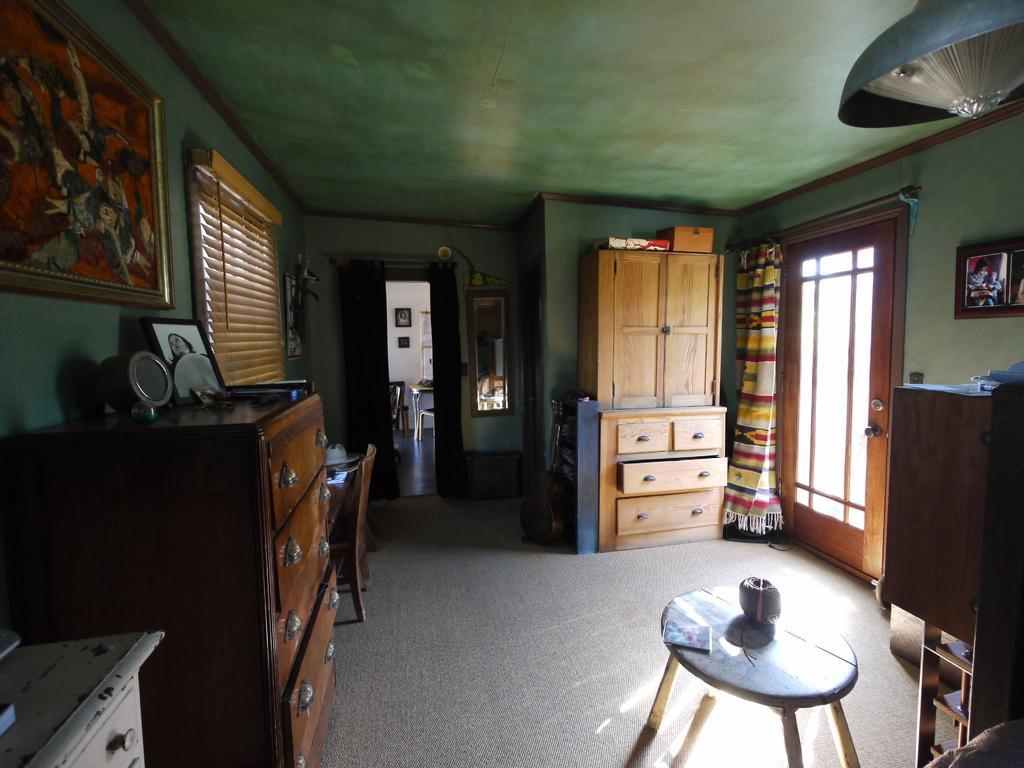door: (792, 250, 890, 554)
handle: (865, 424, 879, 445)
